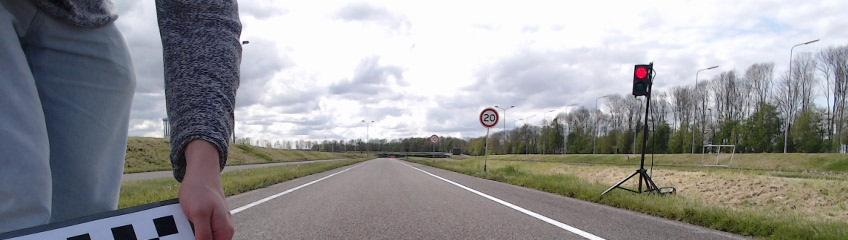Speed-limit-10km-h-: (430, 135, 439, 144)
Speed-limit-20km-h-: (480, 109, 498, 127)
TrafficLight-red: (633, 64, 652, 98)
